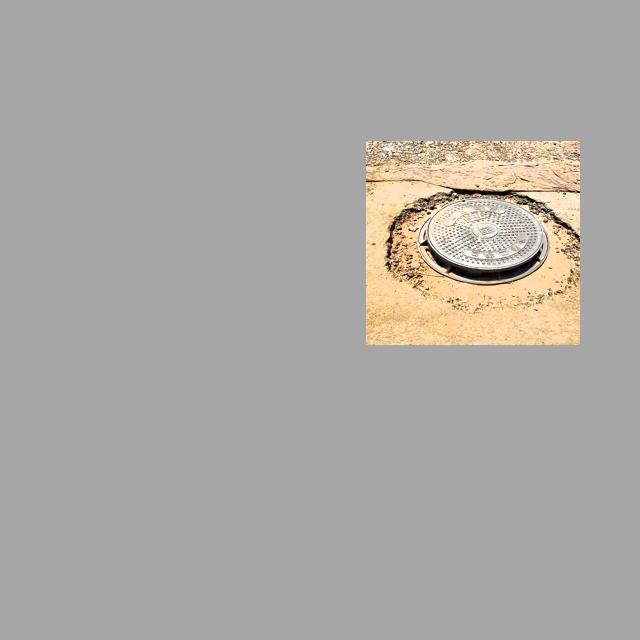circle: (388, 190, 577, 310)
